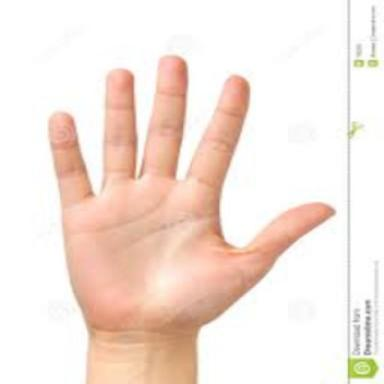normal skin: (49, 56, 335, 384)
